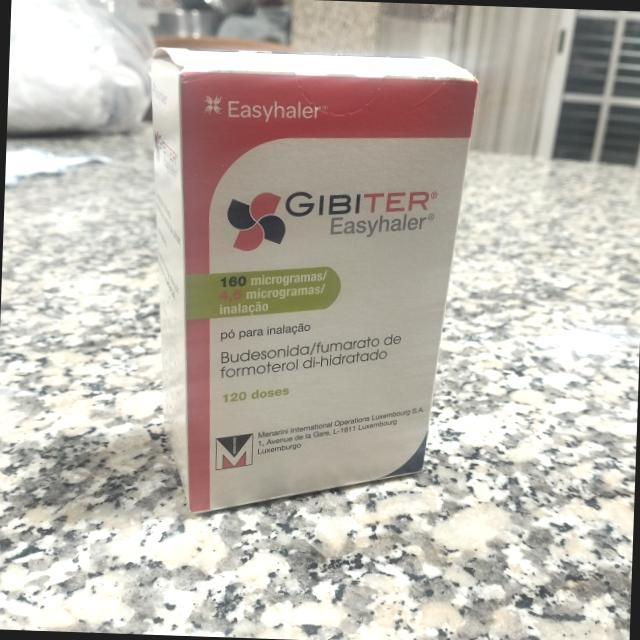box: (151, 55, 479, 513)
